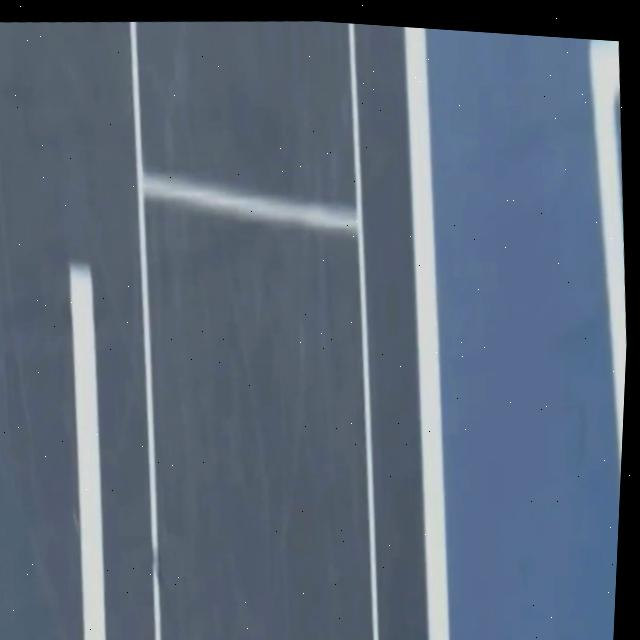center: (70, 263, 106, 640)
left: (405, 27, 449, 640)
